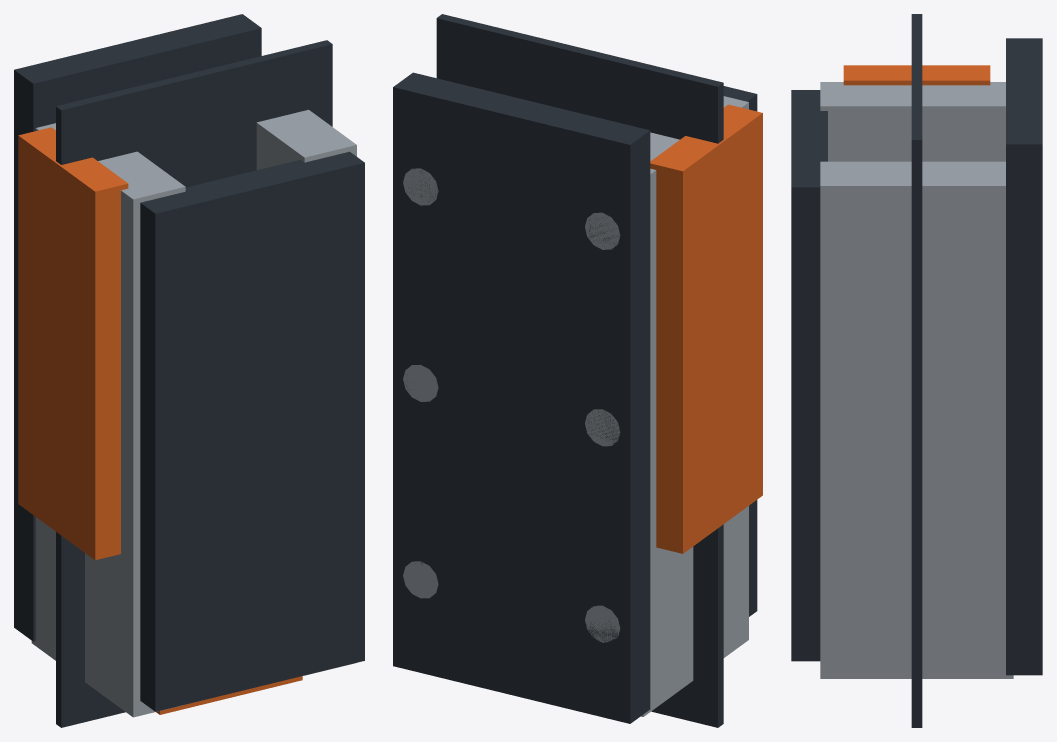
Rendered from procedural-radial-decoupler.glb.
The picture shows the model from 3 angles, left to right: view 1: azimuth 30°, elevation 25°; view 2: azimuth 150°, elevation 25°; view 3: azimuth 270°, elevation 25°; orthographic projection. The views are drawn at different scales.
Parts seen in each view (by area): view 1: SM_Decoupler_OuterSaddle, SM_Decoupler_CableRaceway, SM_Decoupler_SeparationSeam, SM_Decoupler_LoadRail_L, SM_Decoupler_InnerBackplate, SM_Decoupler_ContactPad_Lower, SM_Decoupler_ContactPad_Upper, SM_Decoupler_LoadRail_R, SM_Decoupler_LatchGuard; view 2: SM_Decoupler_InnerBackplate, SM_Decoupler_CableRaceway, SM_Decoupler_SeparationSeam, SM_Decoupler_LoadRail_L, SM_Decoupler_OuterSaddle, SM_Decoupler_Bolt_R_03, SM_Decoupler_Bolt_R_01, SM_Decoupler_Bolt_L_02, SM_Decoupler_Bolt_L_03, SM_Decoupler_Bolt_R_02, SM_Decoupler_Bolt_L_01; view 3: SM_Decoupler_LoadRail_R, SM_Decoupler_InnerBackplate, SM_Decoupler_OuterSaddle, SM_Decoupler_LoadRail_L, SM_Decoupler_SeparationSeam, SM_Decoupler_CableRaceway.
Part boxes in pixels (x1,y1,x2,y2): SM_Decoupler_OuterSaddle: (140, 151, 364, 711); SM_Decoupler_CableRaceway: (18, 127, 128, 560); SM_Decoupler_SeparationSeam: (56, 40, 332, 727); SM_Decoupler_LoadRail_L: (31, 123, 185, 717); SM_Decoupler_InnerBackplate: (14, 14, 261, 641); SM_Decoupler_ContactPad_Lower: (174, 521, 345, 652); SM_Decoupler_ContactPad_Upper: (174, 202, 345, 333); SM_Decoupler_LoadRail_R: (256, 109, 356, 675); SM_Decoupler_LatchGuard: (156, 676, 302, 714); SM_Decoupler_InnerBackplate: (393, 72, 650, 723); SM_Decoupler_CableRaceway: (650, 104, 762, 553); SM_Decoupler_SeparationSeam: (436, 14, 723, 727); SM_Decoupler_LoadRail_L: (641, 96, 748, 716); SM_Decoupler_OuterSaddle: (723, 86, 757, 616); SM_Decoupler_Bolt_R_03: (403, 168, 438, 205); SM_Decoupler_Bolt_R_01: (403, 561, 438, 598); SM_Decoupler_Bolt_L_02: (585, 409, 620, 446); SM_Decoupler_Bolt_L_03: (585, 212, 620, 249); SM_Decoupler_Bolt_R_02: (403, 364, 438, 401); SM_Decoupler_Bolt_L_01: (585, 605, 620, 642); SM_Decoupler_LoadRail_R: (820, 161, 1013, 678); SM_Decoupler_InnerBackplate: (1006, 38, 1042, 675); SM_Decoupler_OuterSaddle: (791, 90, 827, 661); SM_Decoupler_LoadRail_L: (820, 82, 1005, 161); SM_Decoupler_SeparationSeam: (911, 14, 922, 727); SM_Decoupler_CableRaceway: (843, 65, 990, 85).
Size of the model in its own units: 0.287 by 0.62 by 0.24.
